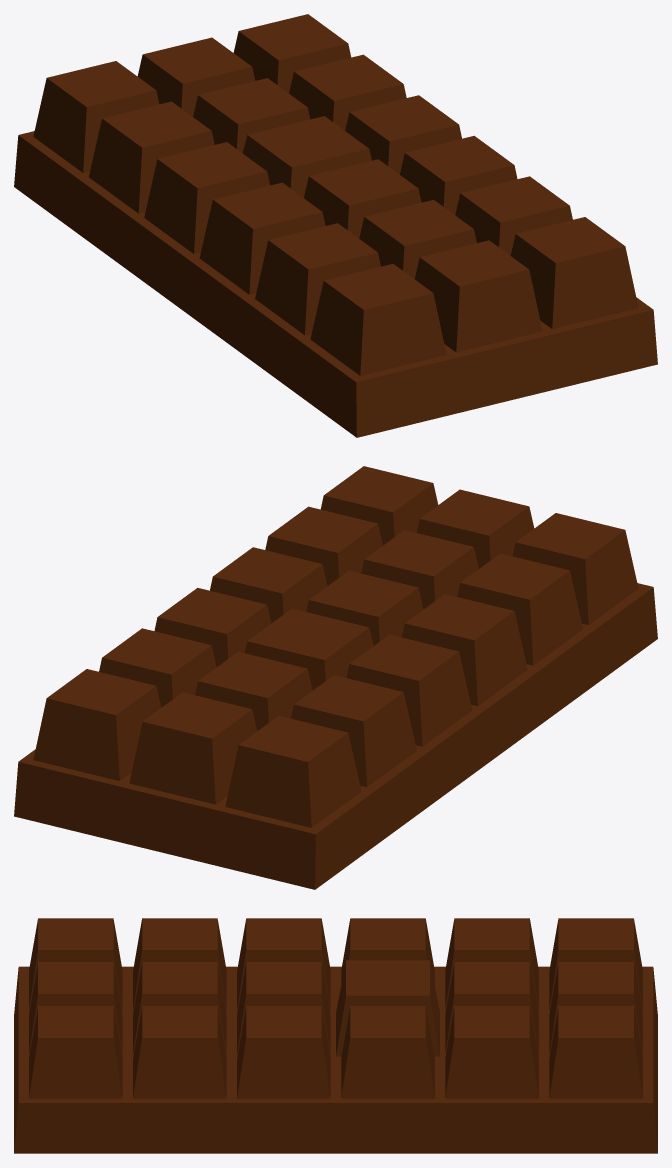
File: Chocolate.gltf
The picture shows the model from 3 angles, top to bottom: view 1: azimuth 30°, elevation 25°; view 2: azimuth 150°, elevation 25°; view 3: azimuth 270°, elevation 25°; orthographic projection. The views are drawn at different scales.
Visible parts, largest first — view 1: ChocolateBar; view 2: ChocolateBar; view 3: ChocolateBar.
Boxes of the visible parts, box(x1,y1,x2,y2) form: ChocolateBar: box(14, 14, 657, 437); ChocolateBar: box(14, 466, 657, 889); ChocolateBar: box(14, 918, 657, 1153).
Bounding box in the file's own units: 0.6072 × 0.219 × 1.2.
Materials: 1 (1 with a texture image).
